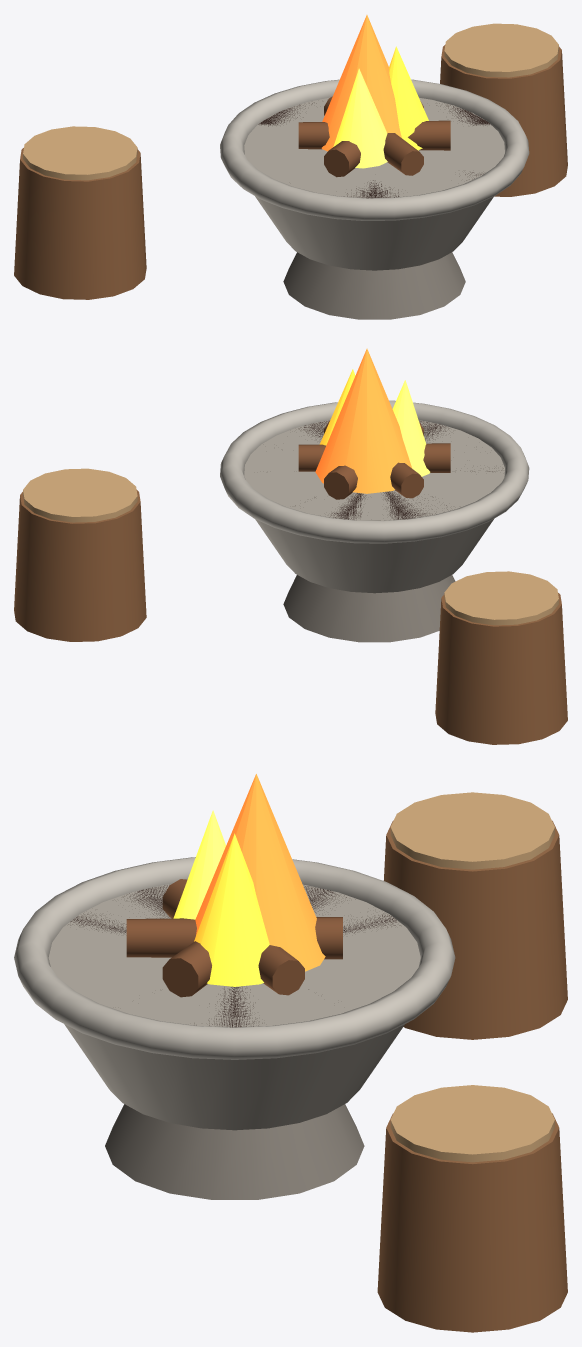
Rendered from campfire-firepit.glb.
3 views of the same model, one above another, from view 1: azimuth 30°, elevation 25°; view 2: azimuth 150°, elevation 25°; view 3: azimuth 270°, elevation 25° (orthographic). The views are drawn at different scales.
Size of the model in its own units: 2.04 by 0.95 by 1.28.
